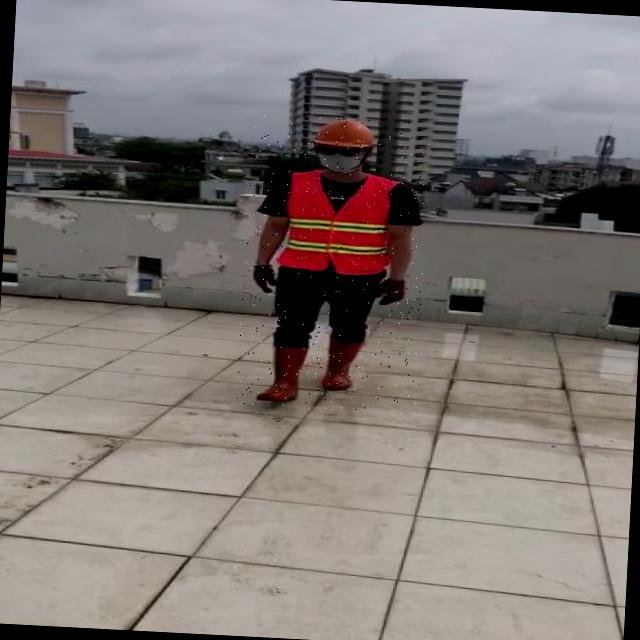boots: (260, 344, 312, 402), (321, 338, 362, 390)
helmet: (312, 116, 381, 150)
vest: (272, 172, 398, 276)
